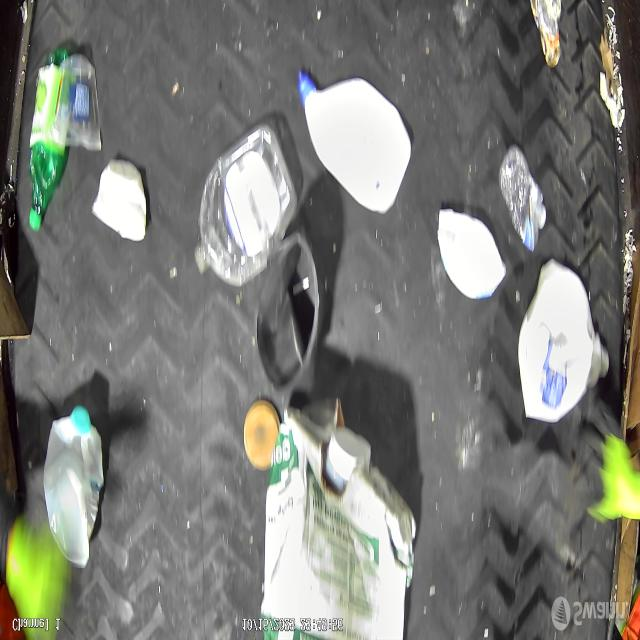milk_jug: (299, 69, 411, 215), (517, 256, 601, 420), (44, 405, 104, 567)
plastic_bottle: (499, 142, 547, 253)
